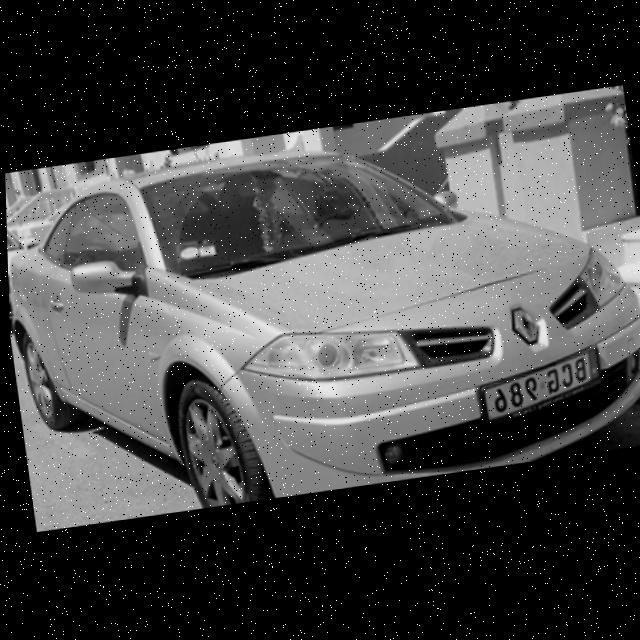license-plates: (483, 350, 599, 420)
